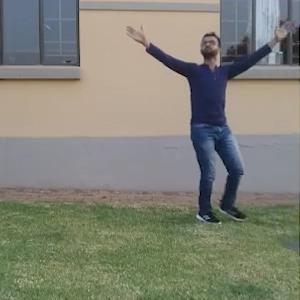takeoff: (120, 18, 287, 216)
